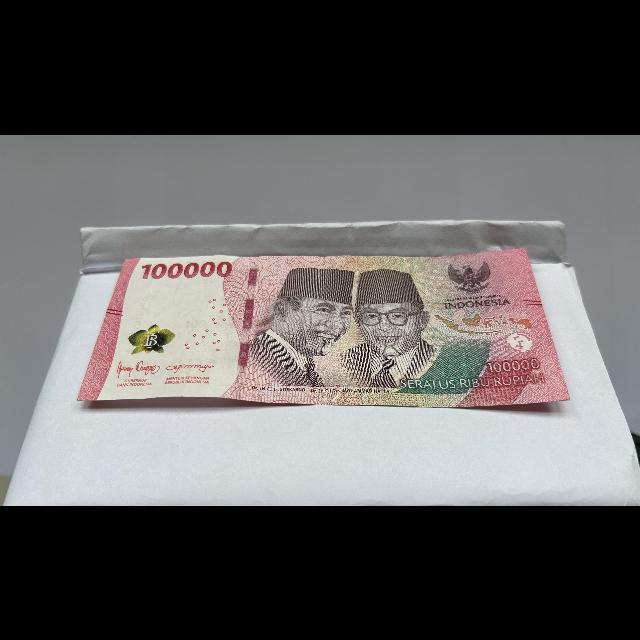Asli-100k: (70, 244, 577, 414)
Tinta-Asli-100k: (123, 321, 179, 356)
